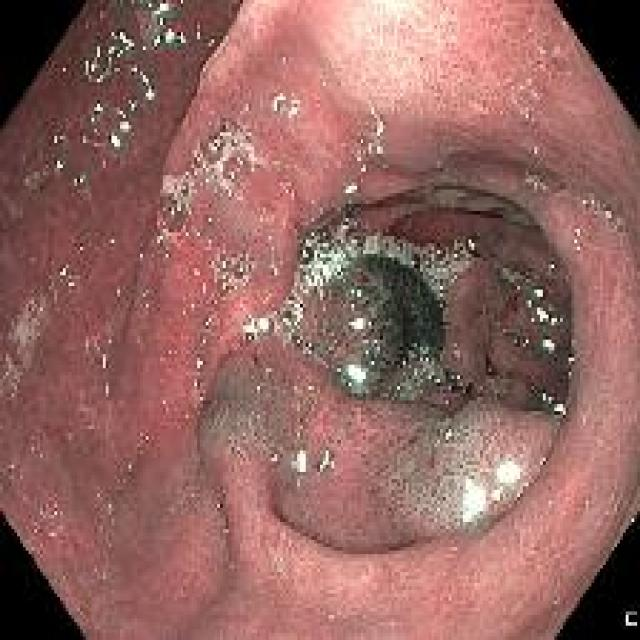bubbles: (260, 227, 477, 337), (193, 114, 258, 192), (382, 342, 453, 403), (556, 180, 622, 231), (9, 294, 50, 362), (156, 171, 196, 235), (211, 248, 254, 296), (2, 353, 29, 402), (137, 7, 164, 49), (520, 167, 548, 198), (100, 503, 120, 543), (198, 312, 217, 346), (159, 344, 177, 369), (29, 518, 43, 537), (36, 499, 50, 516), (189, 356, 206, 369), (188, 375, 201, 389), (207, 295, 221, 308), (196, 389, 206, 407), (244, 328, 256, 343), (213, 495, 223, 512), (319, 77, 330, 90), (278, 55, 289, 63)
saturation: (334, 4, 435, 71)
specularity: (274, 220, 482, 420), (192, 111, 260, 195), (157, 172, 205, 264), (513, 253, 567, 330), (85, 26, 140, 70), (355, 104, 383, 180), (127, 58, 161, 119), (530, 377, 569, 417), (455, 474, 489, 519), (341, 354, 370, 395), (271, 88, 306, 118), (314, 446, 343, 482), (97, 502, 117, 554), (53, 259, 81, 292), (289, 445, 313, 483), (112, 113, 136, 149), (494, 457, 521, 486), (343, 283, 365, 316), (243, 317, 269, 343), (539, 329, 563, 354), (165, 27, 187, 52), (340, 176, 363, 199), (207, 495, 226, 521), (520, 106, 540, 129), (344, 310, 364, 333), (267, 447, 283, 474), (91, 92, 106, 119), (72, 167, 90, 189), (490, 484, 508, 504), (50, 154, 65, 177), (50, 129, 66, 150), (72, 237, 88, 256), (531, 134, 543, 159), (107, 229, 119, 252), (443, 426, 454, 441), (194, 24, 204, 40), (19, 176, 29, 190), (195, 358, 204, 369), (152, 36, 161, 47), (150, 8, 158, 20), (300, 245, 307, 258), (207, 38, 216, 48), (204, 317, 212, 328), (242, 280, 250, 290), (235, 264, 243, 273), (231, 283, 239, 292), (157, 17, 165, 26), (221, 281, 228, 291), (283, 317, 291, 325), (102, 159, 109, 167), (201, 335, 207, 344), (220, 260, 225, 269), (322, 237, 326, 248), (265, 367, 271, 374), (192, 303, 197, 310), (193, 379, 198, 386), (295, 338, 299, 346), (308, 343, 312, 349)
